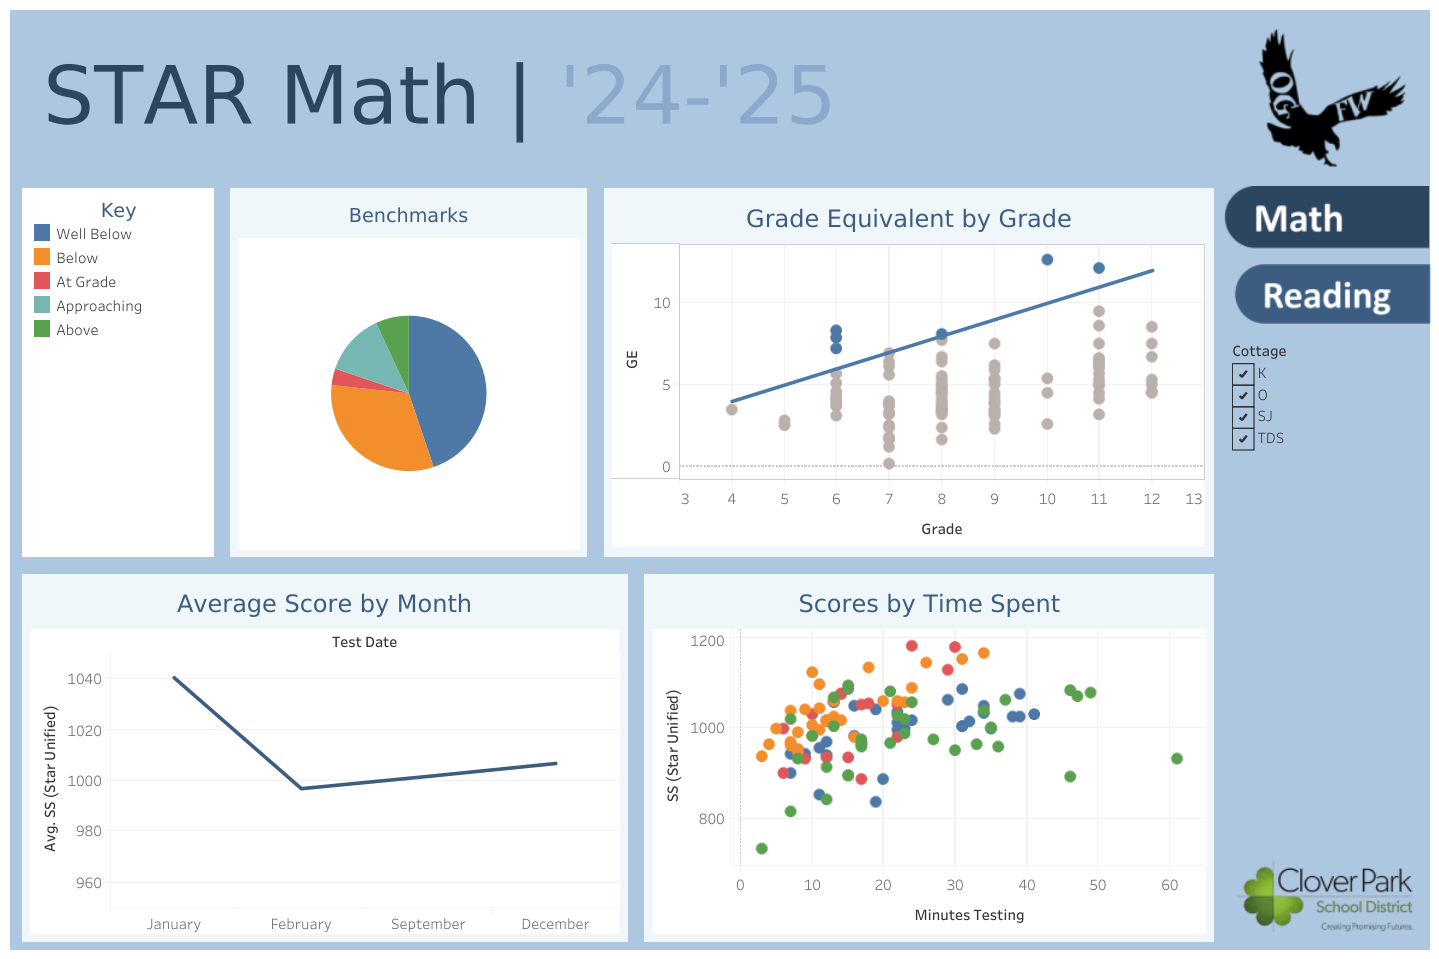

The page's visual inventory and layout, read from the dashboard file:
{"tool":"tableau","page":{"name":"Math Dashboard","canvas":[1200,800],"ordinal":0},"visuals":[{"type":"text","box":[8,8,1011,142]},{"type":"image","param":"Image/OGFW_Logo-removebg-preview.png","box":[1019,8,173,142]},{"type":"legend","title":"Math 4","param":"[federated.0cm7wmj0uzxrbi17ib6pj0777q2k].[none:Benchmark Category:nk]","box":[8,150,177,321]},{"type":"worksheet","title":"Math 4","mark":"Pie","box":[185,150,311,321]},{"type":"worksheet","title":"Math 2","mark":"Automatic","rows":["GE","Calculation_685954575592136713"],"cols":["Grade"],"box":[496,150,523,321]},{"type":"dashboard-object","box":[1019,150,173,63]},{"type":"dashboard-object","box":[1019,213,173,64]},{"type":"blank","box":[1019,277,173,294.5]},{"type":"filter","title":"Math 2","param":"[federated.0cm7wmj0uzxrbi17ib6pj0777q2k].[none:Cottage:nk]","box":[1027,282,155,201]},{"type":"worksheet","title":"Math 3","mark":"Line","rows":["SS (Star Unified)"],"cols":["Test Date"],"box":[8,471,522,321]},{"type":"worksheet","title":"Math 1","mark":"Automatic","rows":["SS (Star Unified)"],"cols":["Test Min"],"box":[530,471,489,321]},{"type":"blank","box":[1019,571.5,173,131.5]},{"type":"image","param":"Image/CPSD_logo-removebg-preview.png","box":[1019,703,173,89]}]}

Visuals, with their boxes in screenshot pixels (x1, y1, x2, y2), scaled from the page's 1200x800 canvas onto the 1439x959 screenshot:
text: 10/10/1222/180
image: 1222/10/1429/180
"Math 4" legend: 10/180/222/565
"Math 4" worksheet (Pie marks): 222/180/595/565
"Math 2" worksheet: 595/180/1222/565
dashboard-object: 1222/180/1429/255
dashboard-object: 1222/255/1429/332
blank: 1222/332/1429/685
"Math 2" filter: 1232/338/1417/579
"Math 3" worksheet (Line marks): 10/565/636/949
"Math 1" worksheet: 636/565/1222/949
blank: 1222/685/1429/843
image: 1222/843/1429/949
